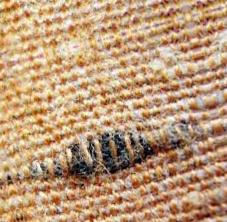slub: (1, 120, 213, 186)
